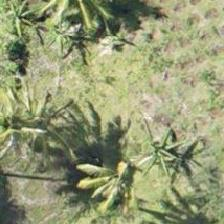coconut_tree: (114, 101, 204, 191)
